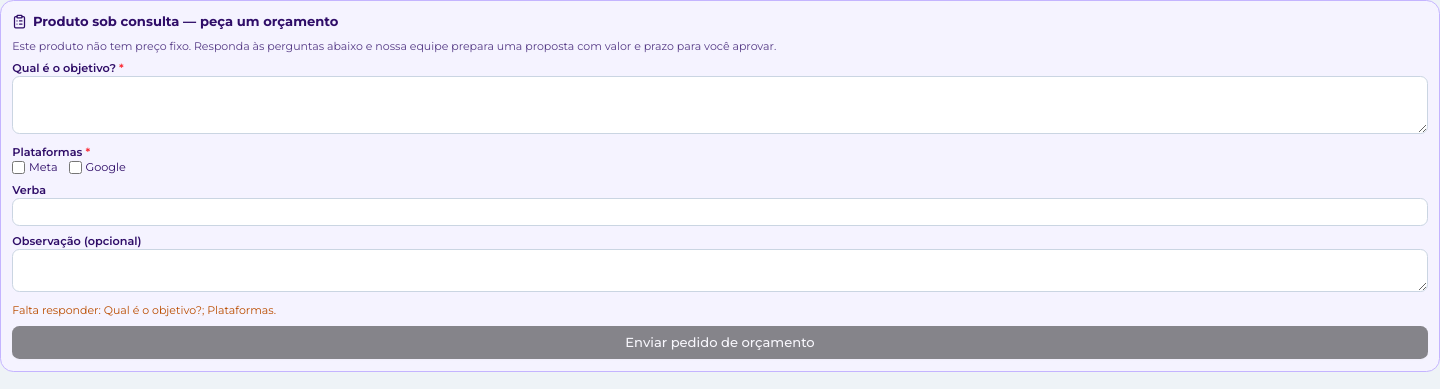
Produto sob consulta (tela do cliente) › só habilita o envio com as obrigatórias respondidas e manda as respostas ao servidor
Later steps or results of the test are not shown.
Expected: the text "Produto sob consulta — peça um orçamento" is shown, x1=12 y1=13 x2=338 y2=29
Expected: the button "Enviar pedido de orçamento" is disabled, x1=12 y1=326 x2=1428 y2=359
Type "Vender mais" into the text box labelled "Qual é o objetivo? *". click: (720, 105)
box: x1=12 y1=76 x2=1428 y2=134
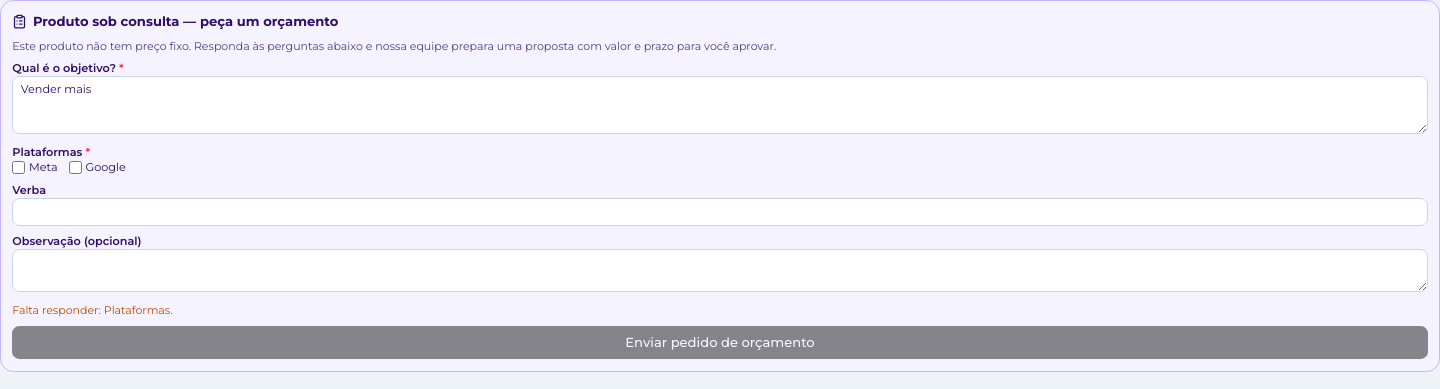
Click the checkbox labelled "Meta". click: (19, 168)
box: x1=12 y1=161 x2=25 y2=174
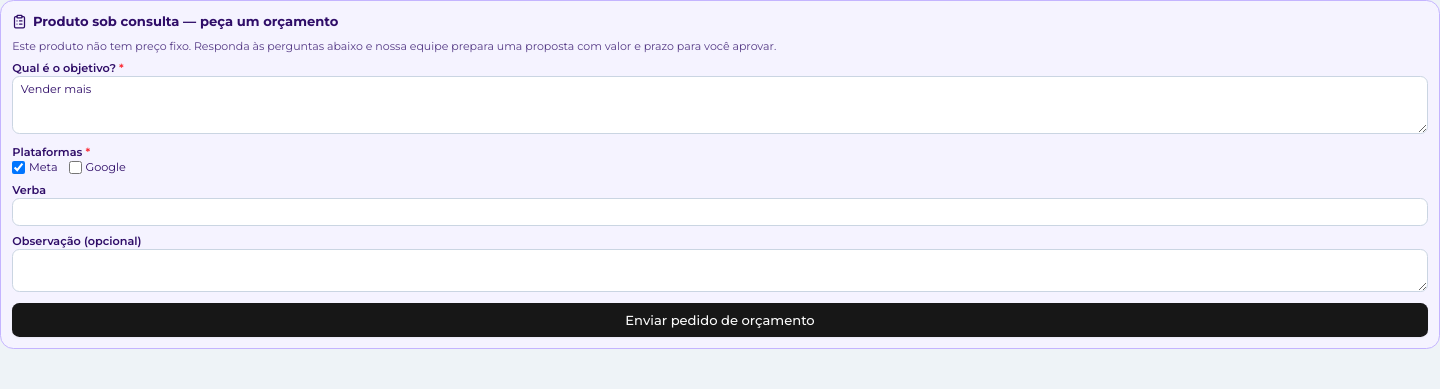
Expected: the button "Enviar pedido de orçamento" is enabled, x1=12 y1=303 x2=1428 y2=337
